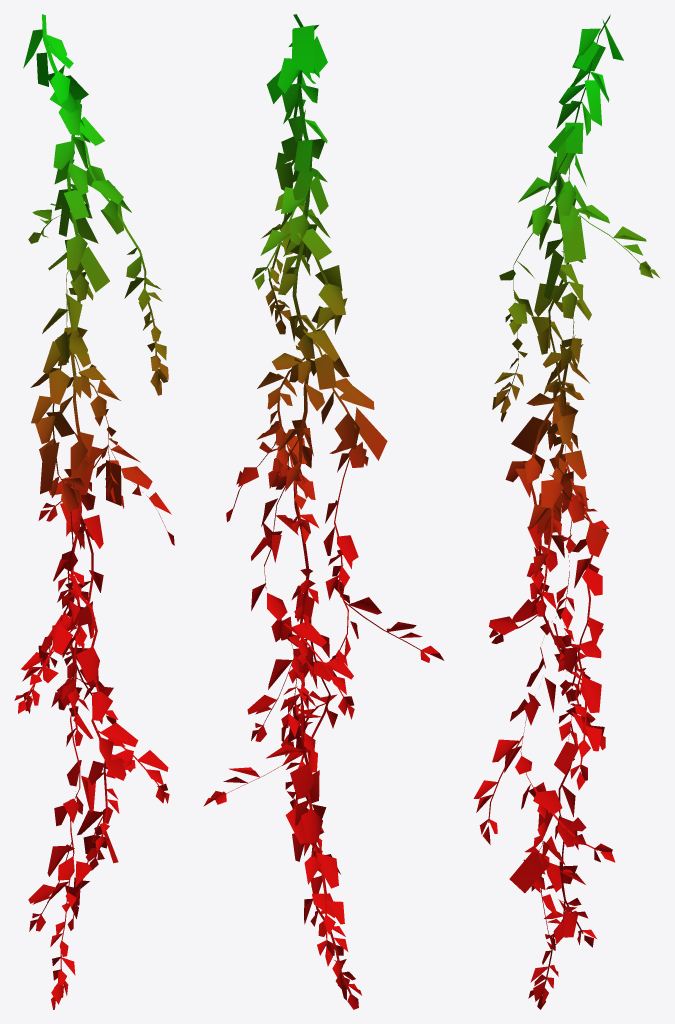
File: Var8_LOD4.fbx
The picture shows the model from 3 angles, left to right: view 1: azimuth 30°, elevation 25°; view 2: azimuth 150°, elevation 25°; view 3: azimuth 270°, elevation 25°; orthographic projection. The views are drawn at different scales.
Parts seen in each view (by area): view 1: _nsls_Var8_LOD4; view 2: _nsls_Var8_LOD4; view 3: _nsls_Var8_LOD4.
Part boxes in pixels (x1,y1,x2,y2): _nsls_Var8_LOD4: [14, 14, 174, 1009]; _nsls_Var8_LOD4: [203, 14, 444, 1009]; _nsls_Var8_LOD4: [473, 14, 660, 1009].
Bounding box in the file's own units: 42.15 × 216 × 36.35.
